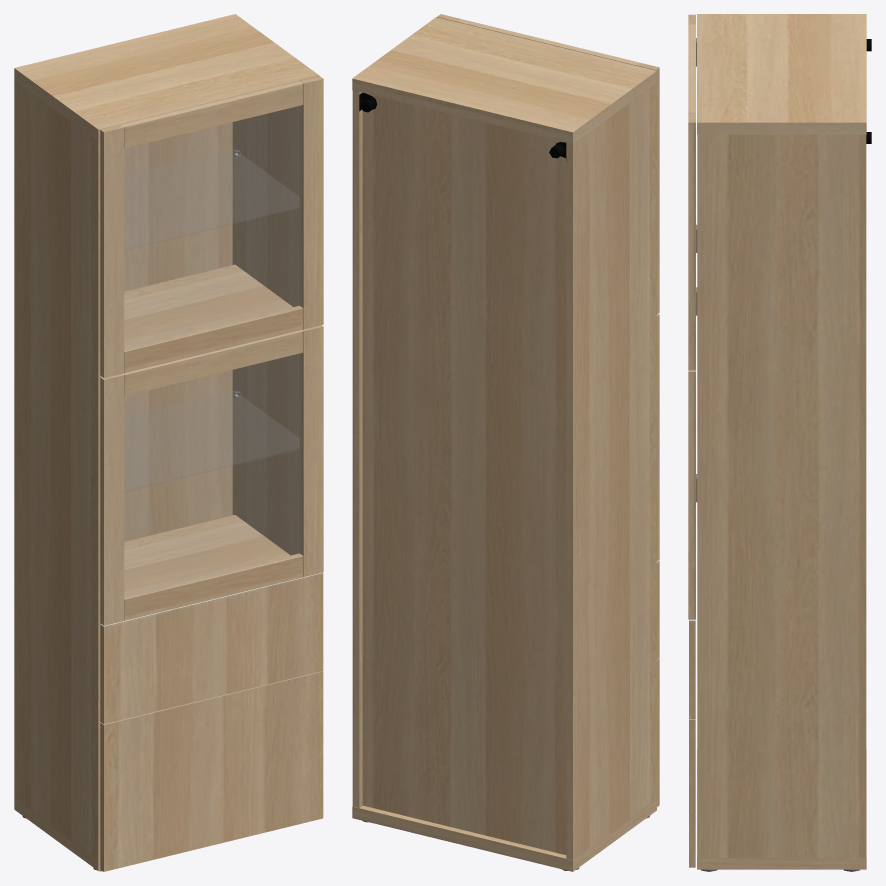
The model's file is besta_rega_szklane_drzwi_69622879.glb.
3 renders of one model, left to right at view 1: azimuth 30°, elevation 25°; view 2: azimuth 150°, elevation 25°; view 3: azimuth 270°, elevation 25°, orthographic.
Visible parts, largest first — view 1: besta_rega_szklane_drzwi_69622879; view 2: besta_rega_szklane_drzwi_69622879; view 3: besta_rega_szklane_drzwi_69622879.
Boxes of the visible parts, x1,y1,x2,y2 form: besta_rega_szklane_drzwi_69622879: (14, 14, 323, 871); besta_rega_szklane_drzwi_69622879: (352, 14, 659, 871); besta_rega_szklane_drzwi_69622879: (688, 14, 871, 871).
Size of the model in its own units: 0.5999 by 1.93 by 0.4267.
Materials: 2 (2 with a texture image).
